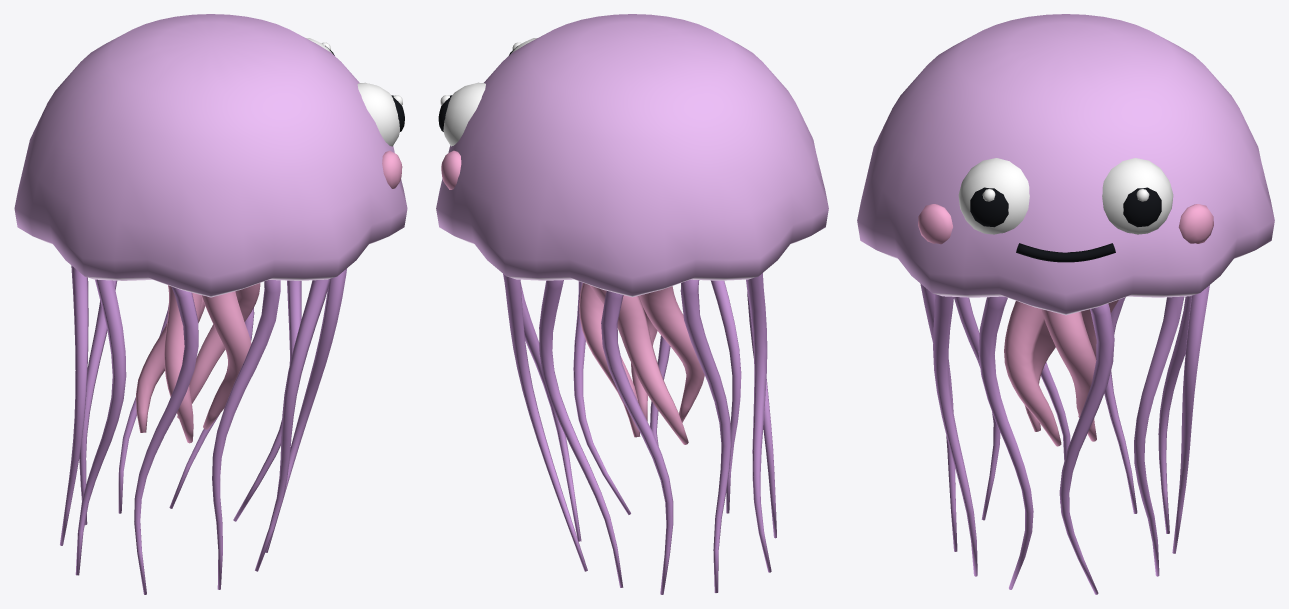
Rendered from fish_jelly.glb.
The picture shows the model from 3 angles, left to right: view 1: azimuth 30°, elevation 25°; view 2: azimuth 150°, elevation 25°; view 3: azimuth 270°, elevation 25°; orthographic projection. The views are drawn at different scales.
Parts seen in each view (by area): view 1: Fish, Tail; view 2: Fish, Tail; view 3: Fish, Tail.
Part boxes in pixels (box(x1,y1,x2,y2)): Fish: box(14, 14, 407, 297); Tail: box(60, 265, 346, 594); Fish: box(436, 14, 828, 297); Tail: box(503, 273, 776, 594); Fish: box(857, 14, 1274, 315); Tail: box(920, 283, 1209, 594).
Size of the model in its own units: 1.29 by 1.83 by 1.3.
